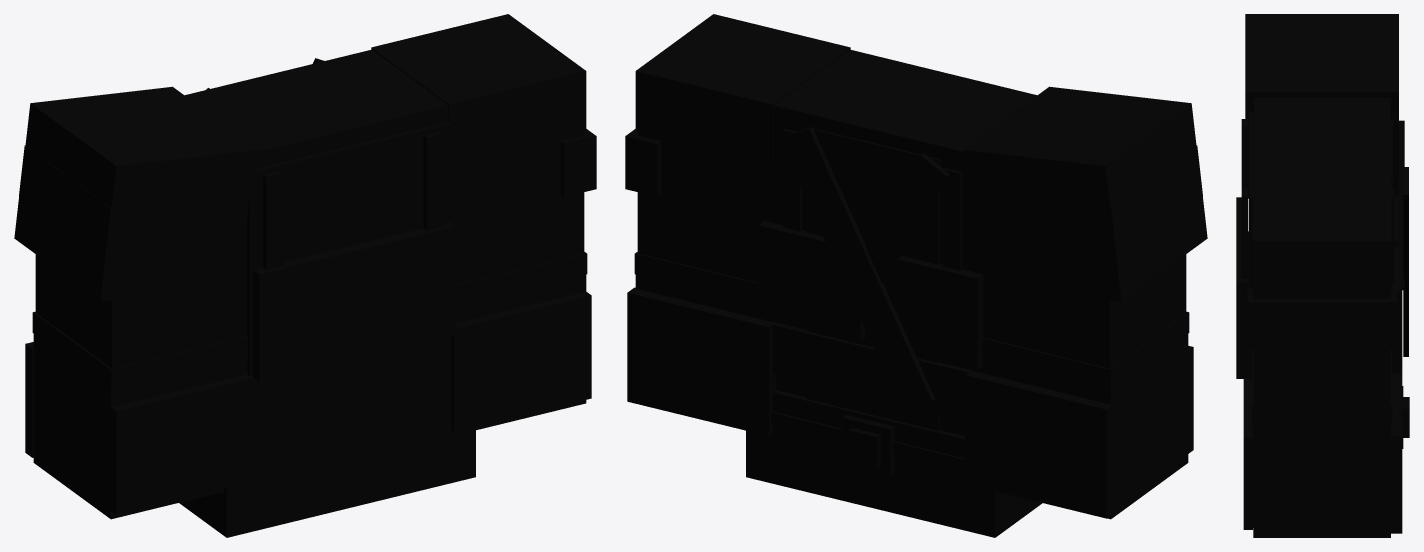
The model's file is xuantie_chestplate.obj.
The picture shows the model from 3 angles, left to right: view 1: azimuth 30°, elevation 25°; view 2: azimuth 150°, elevation 25°; view 3: azimuth 270°, elevation 25°; orthographic projection. The views are drawn at different scales.
Parts seen in each view (by area): view 1: geometry; view 2: geometry; view 3: geometry.
Part boxes in pixels (x1,y1,x2,y2): geometry: (14,14,596,537); geometry: (625,14,1207,537); geometry: (1236,14,1409,537).
Bounding box in the file's own units: 1.11 × 0.8499 × 0.3738.
